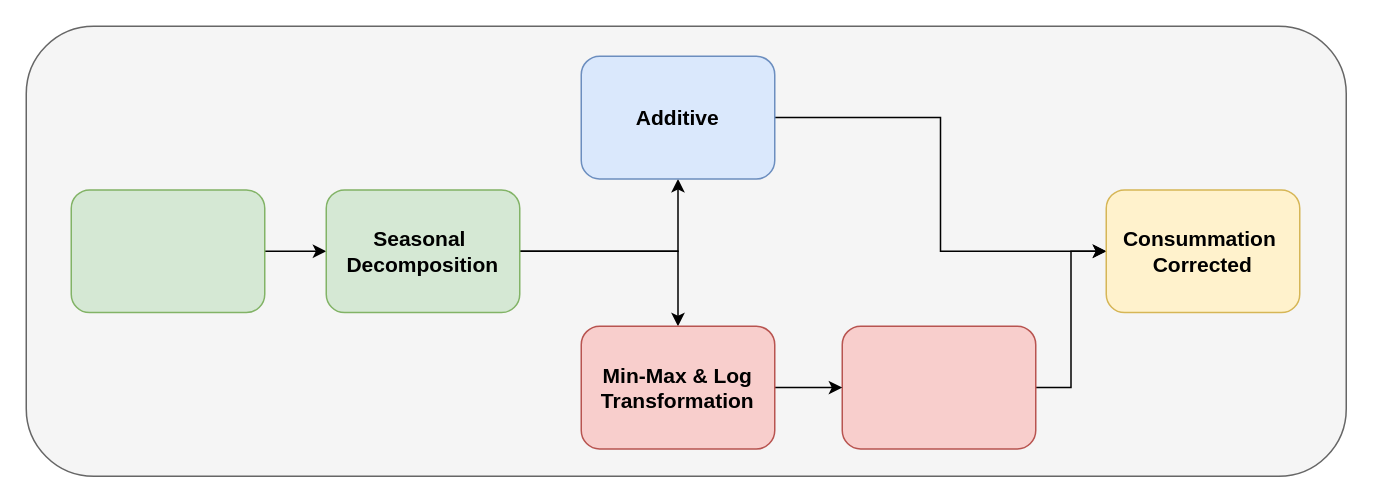
Some shapes in this 1373 by 503 pixel diagram are drawn without their labels. Here are the shapes that lost their labels. From the top down, the box of each, then its label:
(70, 188, 265, 313): Combined Dataset
(841, 325, 1036, 449): Multiplicative
